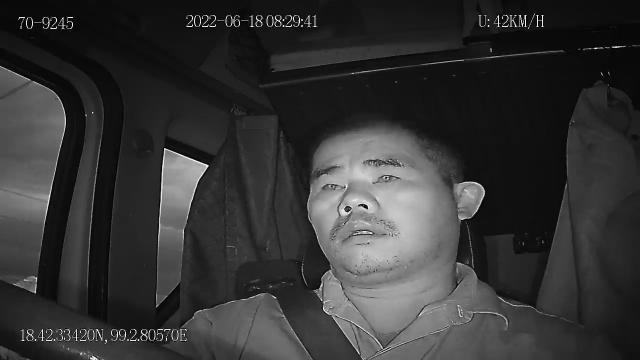SafeDriving: (366, 162, 408, 190), (315, 172, 352, 197)
Seatbelt: (244, 252, 372, 360)
